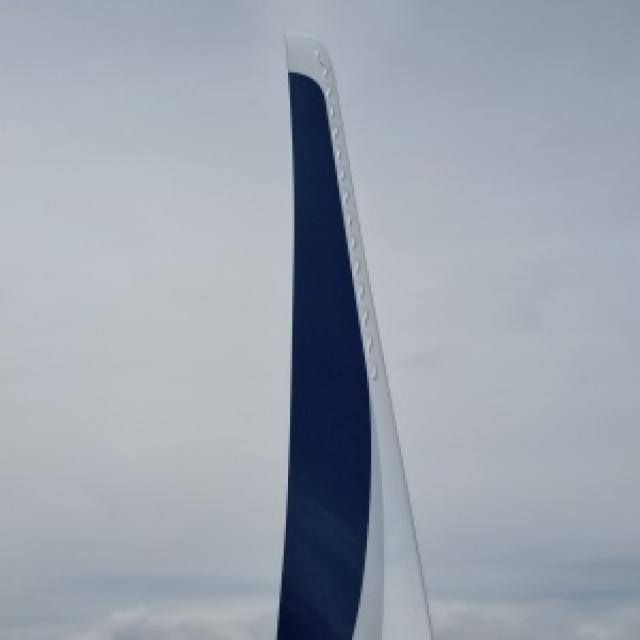healthy: (275, 32, 429, 638)
